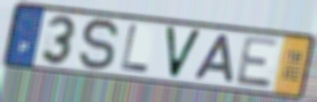3: (41, 13, 78, 67)
A: (190, 33, 235, 85)
E: (234, 35, 282, 91)
L: (119, 23, 151, 75)
S: (77, 17, 122, 73)
V: (162, 24, 204, 82)
